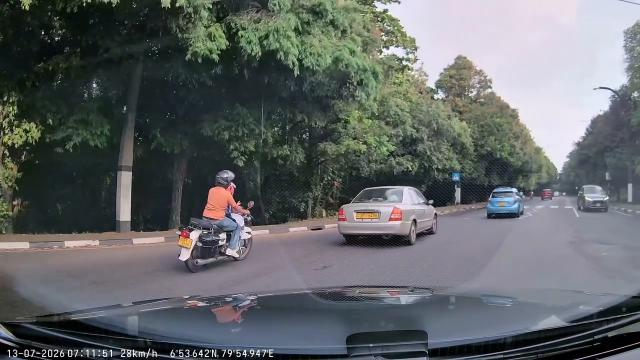number plate: (351, 209, 386, 225), (176, 234, 195, 253)
